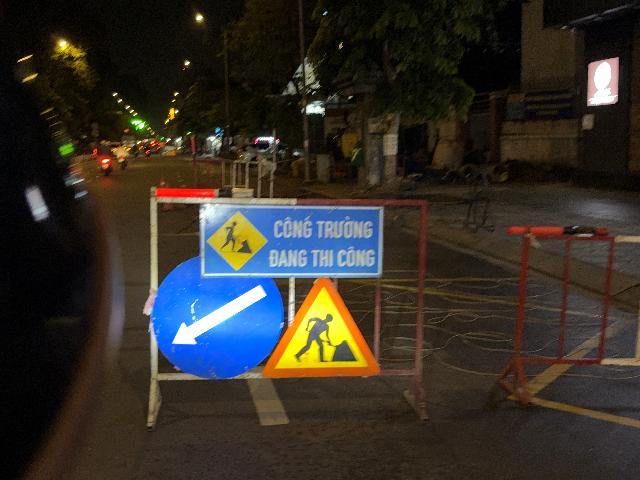cong-truong-dang-thi-cong: (262, 276, 382, 379)
huong-phai-di-vong-chuong-ngai-vat: (150, 255, 285, 381)
